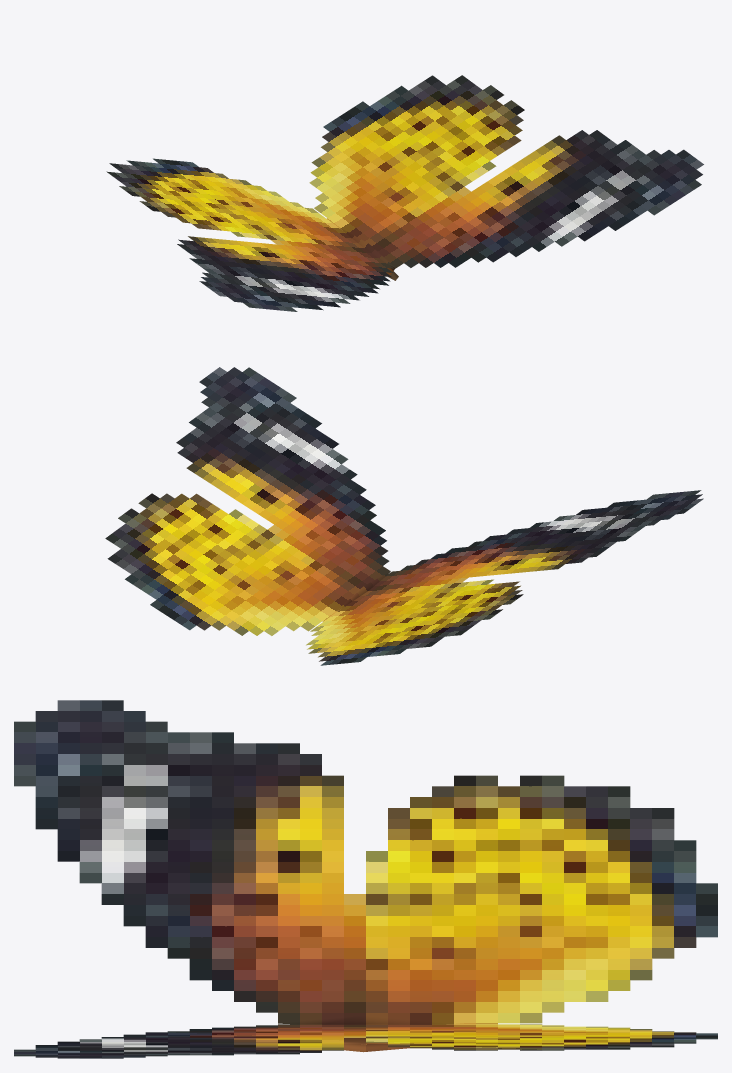
Rendered from Butterfly01.obj.
The picture shows the model from 3 angles, top to bottom: view 1: azimuth 30°, elevation 25°; view 2: azimuth 150°, elevation 25°; view 3: azimuth 270°, elevation 25°; orthographic projection. The views are drawn at different scales.
Parts seen in each view (by area): view 1: Mesh_0; view 2: Mesh_0; view 3: Mesh_0.
Part boxes in pixels (x1,y1,x2,y2): Mesh_0: (106, 75, 703, 311); Mesh_0: (105, 367, 703, 665); Mesh_0: (14, 700, 717, 1058).
Bounding box in the file's own units: 0.288 × 0.0642 × 0.2256.
1 material, 1 textured.
